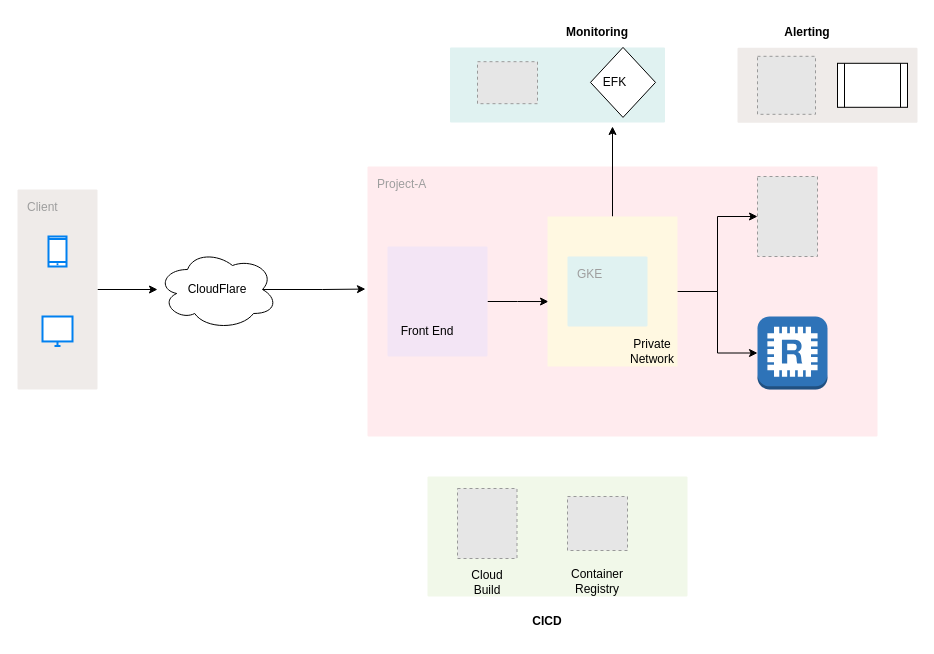
This 934x654 diagram has some shape labels left out. Grey dashed boxes stand in for pictures. Here are the shapes that lost their labels. From the top down, the box of each, then its label:
(836, 62, 908, 107): Pagerduty
(387, 246, 487, 356): Cloud Run
(547, 216, 677, 366): VPC
